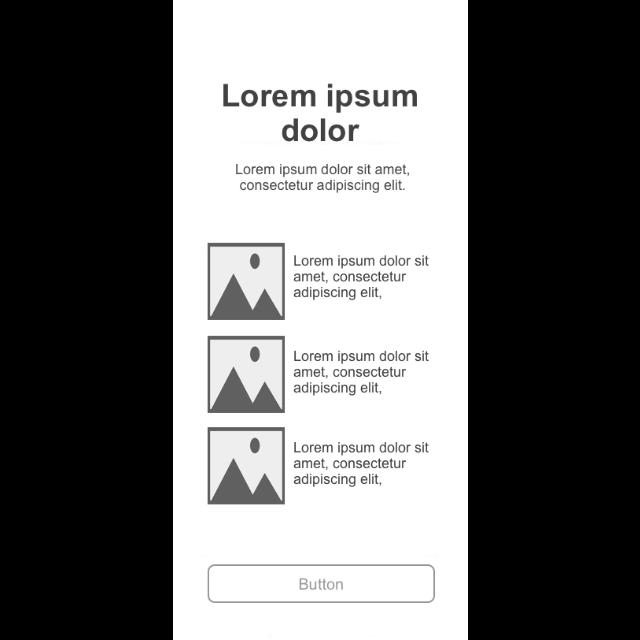image: (207, 243, 285, 321), (207, 336, 285, 414), (207, 427, 285, 505)
text: (223, 84, 417, 142), (293, 253, 429, 300), (293, 350, 429, 396), (293, 442, 429, 488), (235, 164, 409, 194)
textbutton: (208, 564, 434, 604)
